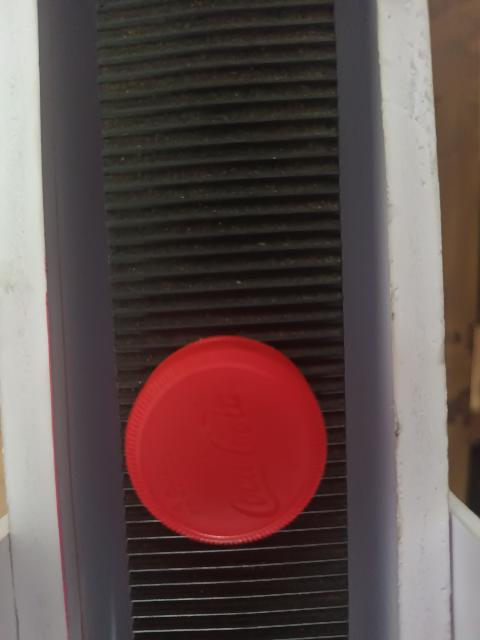bottlecap: (125, 334, 329, 544)
